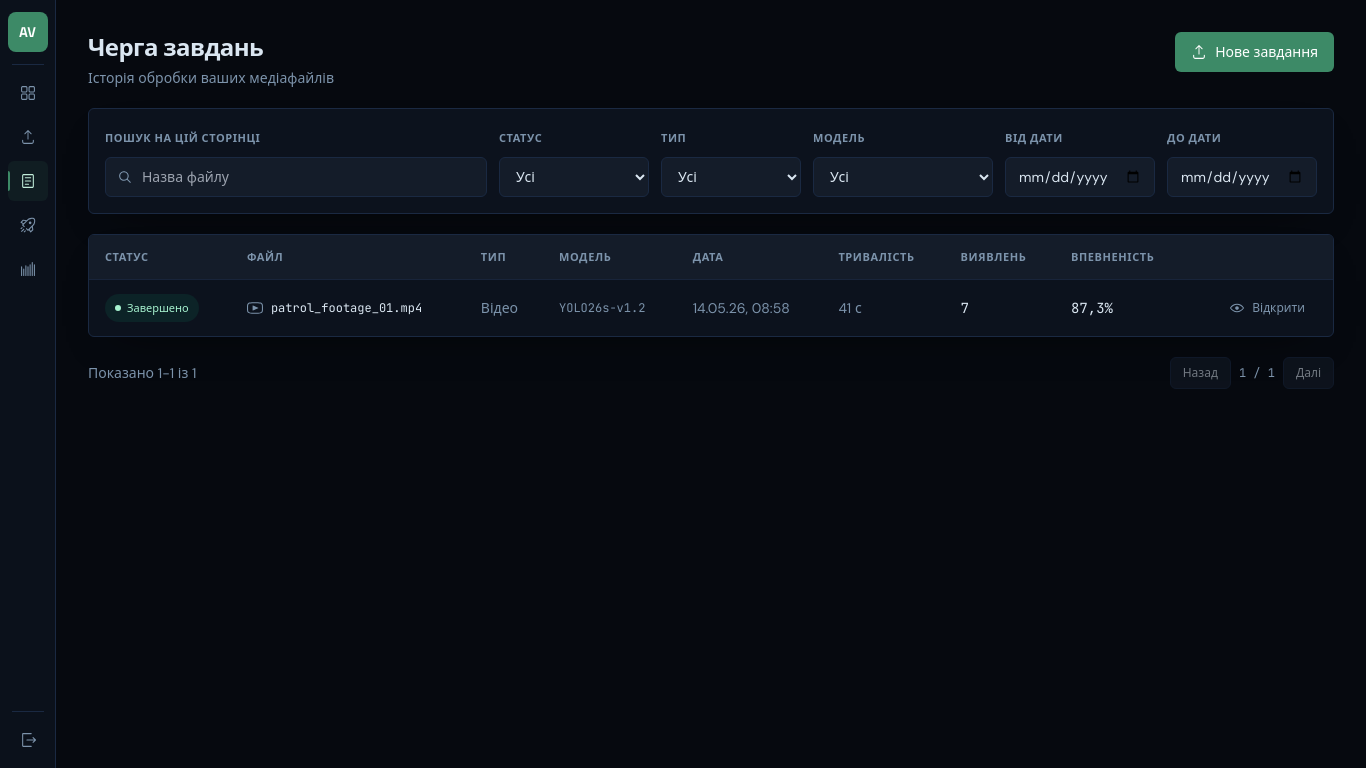
Test: Phase 27 jobs page › searches only current page and explains no local matches
Expected: the text "patrol_footage_01.mp4" is shown, [271,300,422,316]
Type "missing" into the field labelled "Пошук на цій сторінці".
click(296, 177); type("missing")  # box [105,157,487,197]
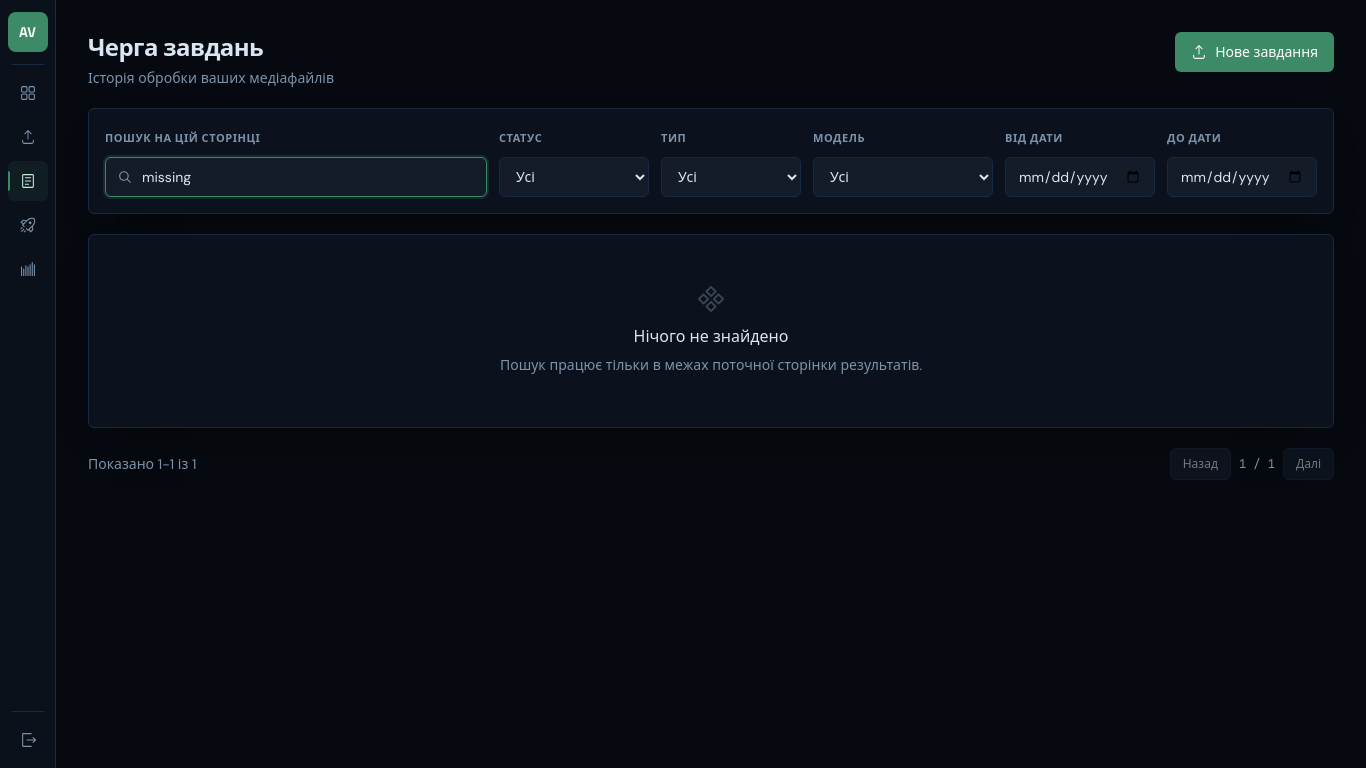
Now the text "Нічого не знайдено" is shown, box [634,326,788,347]
Now the text "Пошук працює тільки в межах поточної сторінки результатів." is shown, box [500,353,922,377]
